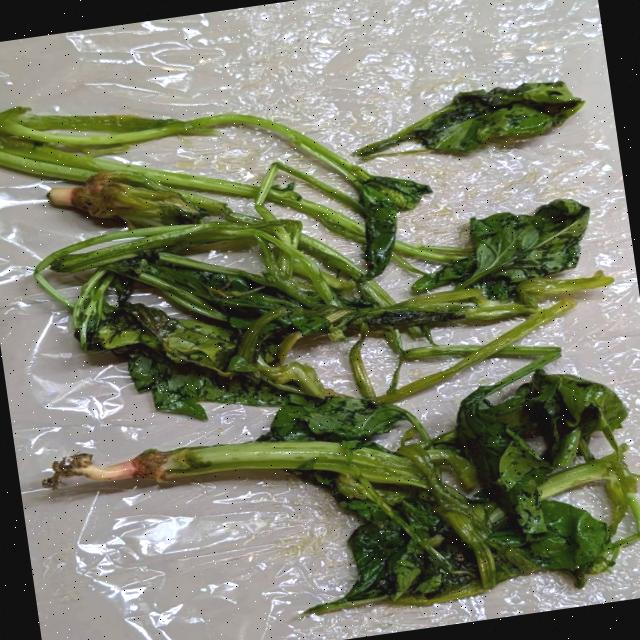rotten spinach: (0, 0, 640, 640), (30, 18, 587, 440), (28, 257, 640, 640), (397, 51, 581, 187)
